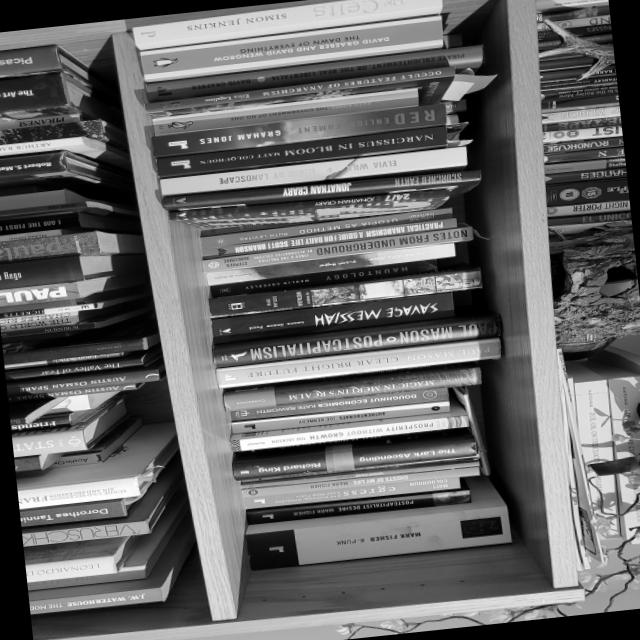book: (241, 473, 511, 570), (143, 66, 458, 135), (137, 14, 444, 82), (145, 44, 483, 103), (160, 146, 467, 201), (151, 102, 447, 159), (211, 311, 501, 368), (130, 0, 442, 52), (155, 126, 447, 179), (168, 182, 449, 236), (215, 336, 501, 389), (208, 266, 482, 319), (229, 426, 475, 481), (159, 170, 480, 212), (199, 225, 473, 274), (151, 87, 418, 136), (210, 291, 454, 344), (220, 364, 481, 412), (226, 403, 468, 453), (205, 241, 454, 286), (199, 205, 452, 249), (201, 217, 456, 259), (243, 480, 471, 526), (209, 258, 436, 298), (239, 457, 478, 491), (229, 387, 447, 424), (230, 398, 448, 435), (239, 465, 479, 498), (243, 475, 460, 510)
